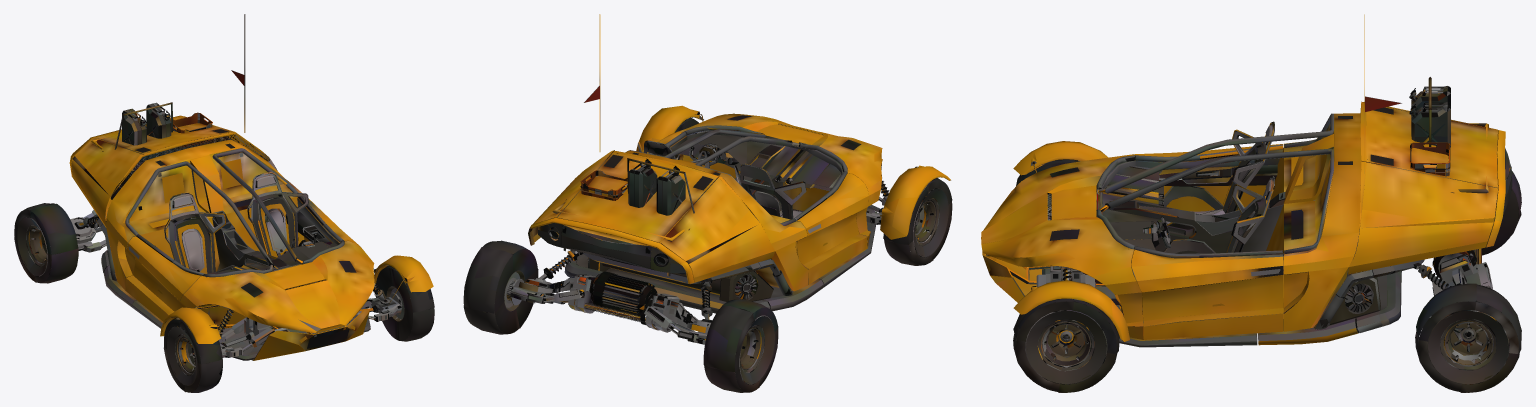
Rendered from buggy.glb.
The picture shows the model from 3 angles, left to right: view 1: azimuth 30°, elevation 25°; view 2: azimuth 150°, elevation 25°; view 3: azimuth 270°, elevation 25°; orthographic projection. The views are drawn at different scales.
Visible parts, largest first — view 1: buggy; view 2: buggy; view 3: buggy.
Boxes of the visible parts, bbox=[...] form: buggy: bbox=[14, 14, 434, 392]; buggy: bbox=[463, 14, 952, 392]; buggy: bbox=[981, 14, 1521, 392].
Size of the model in its own units: 2.91 by 3 by 4.3.
4 materials, 4 textured.
